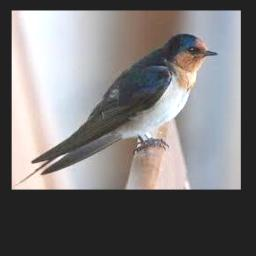Swallow: (15, 33, 218, 186)
